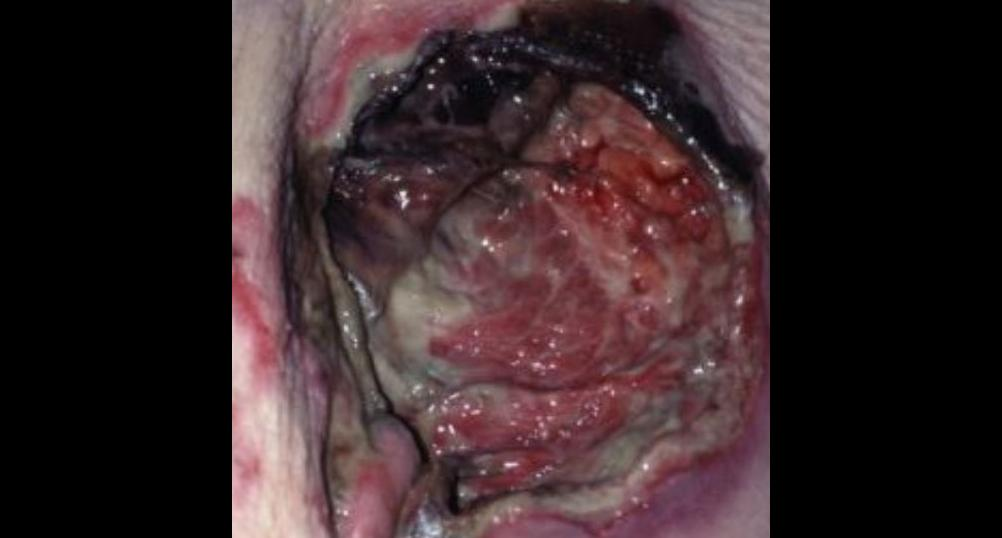Stage4: (264, 0, 766, 538)
